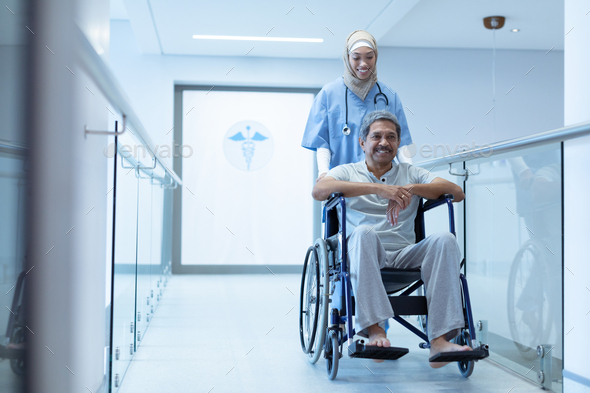wheelchair: (298, 110, 490, 379)
